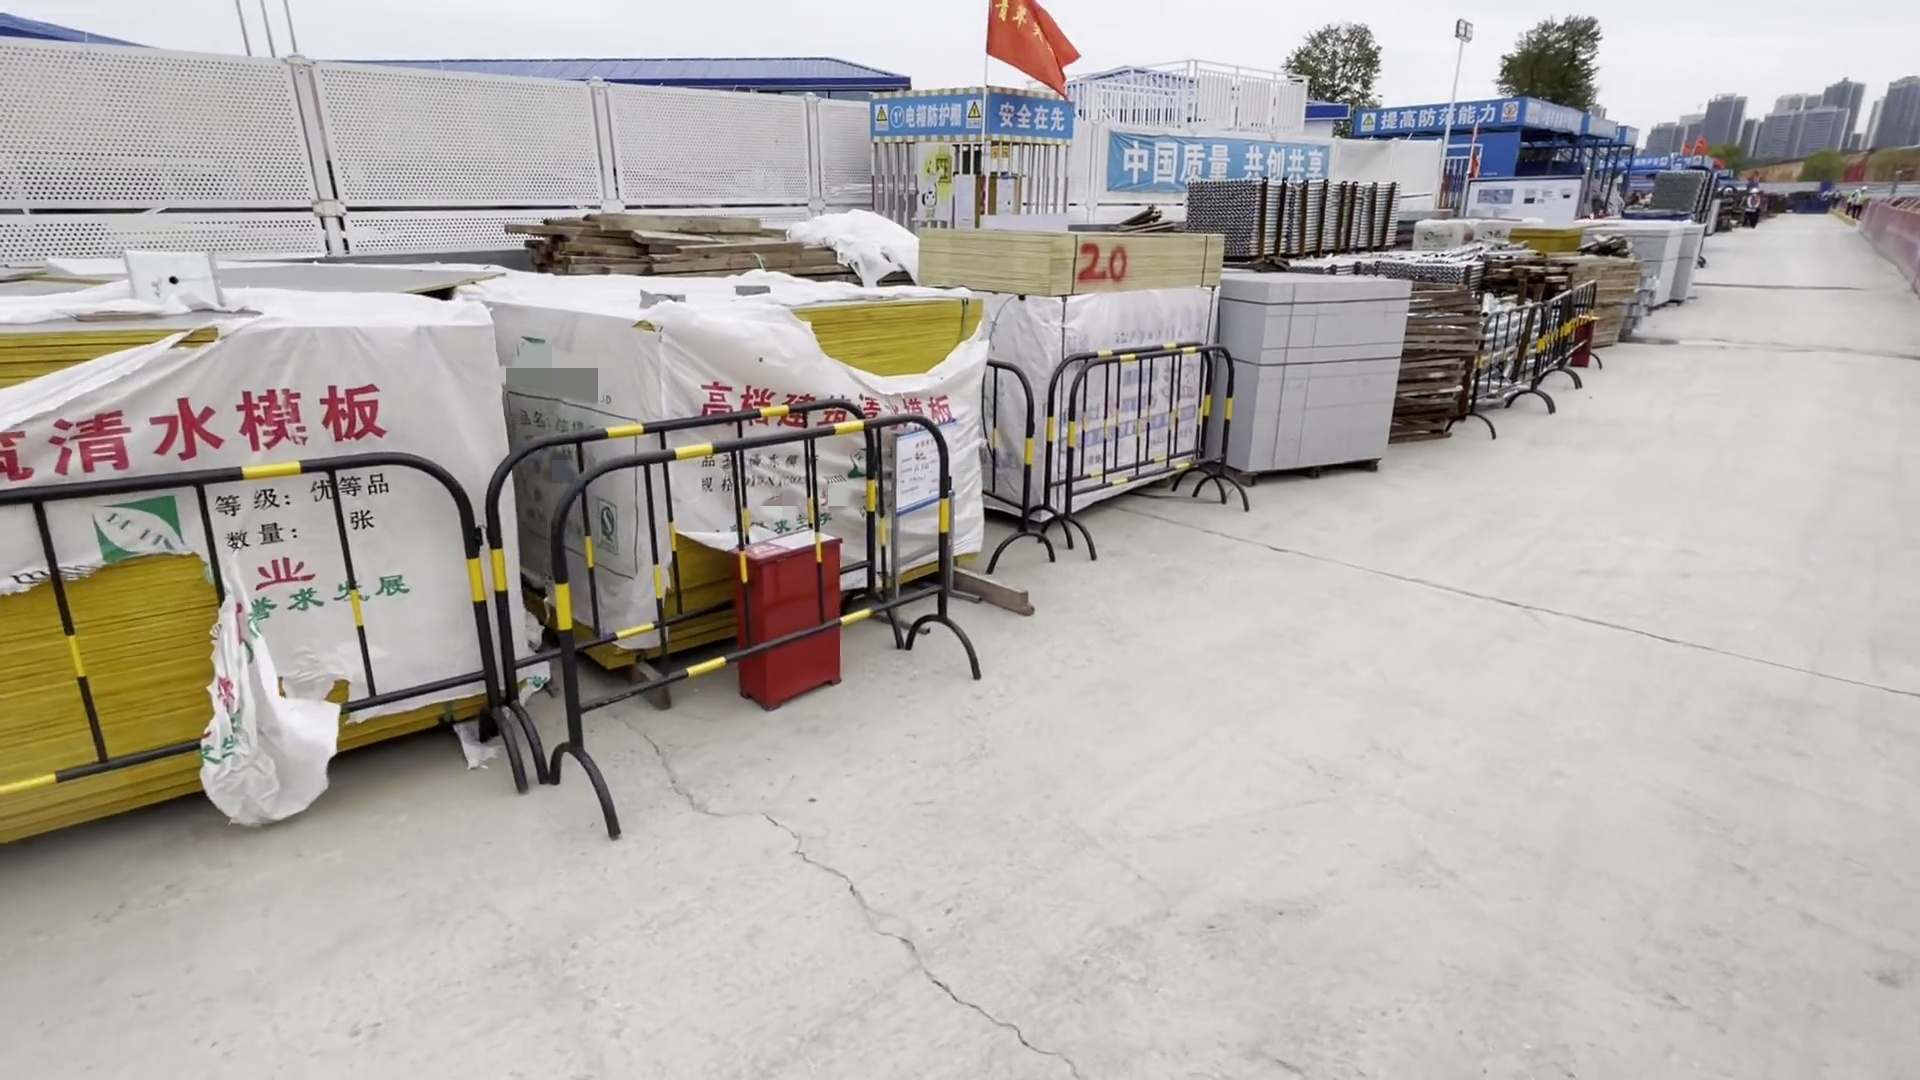board: (8, 309, 451, 770), (473, 266, 1004, 615)
brick: (1183, 269, 1419, 497), (1588, 222, 1702, 306)
fence: (1859, 193, 1920, 272)
scaffold: (1171, 171, 1396, 262)
slogan: (1092, 128, 1335, 194), (1335, 94, 1516, 137), (992, 100, 1097, 141)
